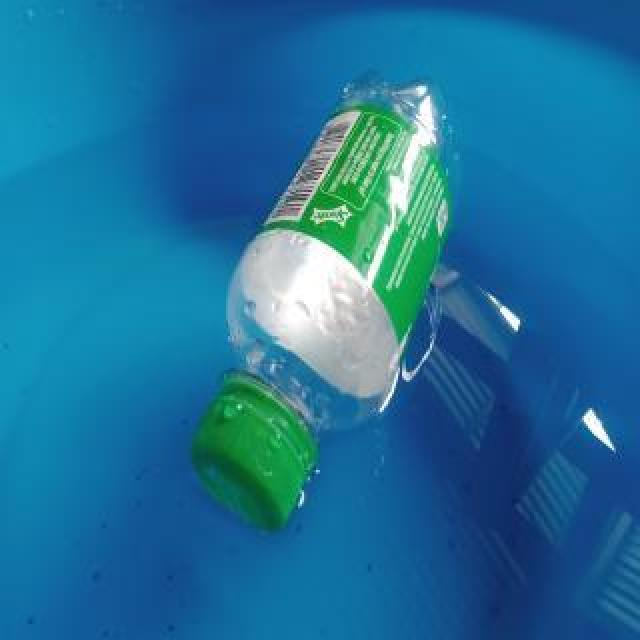bottle: (188, 63, 462, 531)
